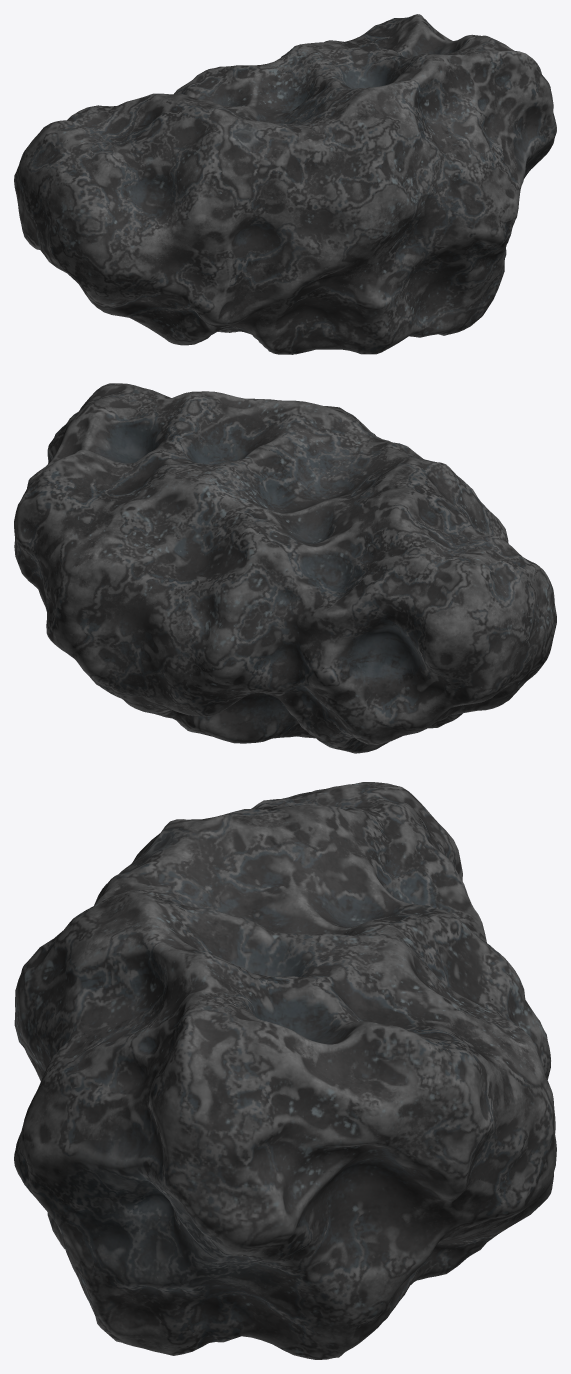
The model's file is Asteroid_1e.obj.
3 renders of one model, top to bottom at view 1: azimuth 30°, elevation 25°; view 2: azimuth 150°, elevation 25°; view 3: azimuth 270°, elevation 25°, orthographic. The views are drawn at different scales.
Visible parts, largest first — view 1: Asteroid_1e; view 2: Asteroid_1e; view 3: Asteroid_1e.
Part boxes in pixels (x1=…): Asteroid_1e: x1=14, y1=14, x2=556, y2=354; Asteroid_1e: x1=14, y1=383, x2=556, y2=753; Asteroid_1e: x1=14, y1=782, x2=556, y2=1359.
Size of the model in its own units: 4.33 by 2.3 by 2.82.
Materials: 1 (1 with a texture image).
